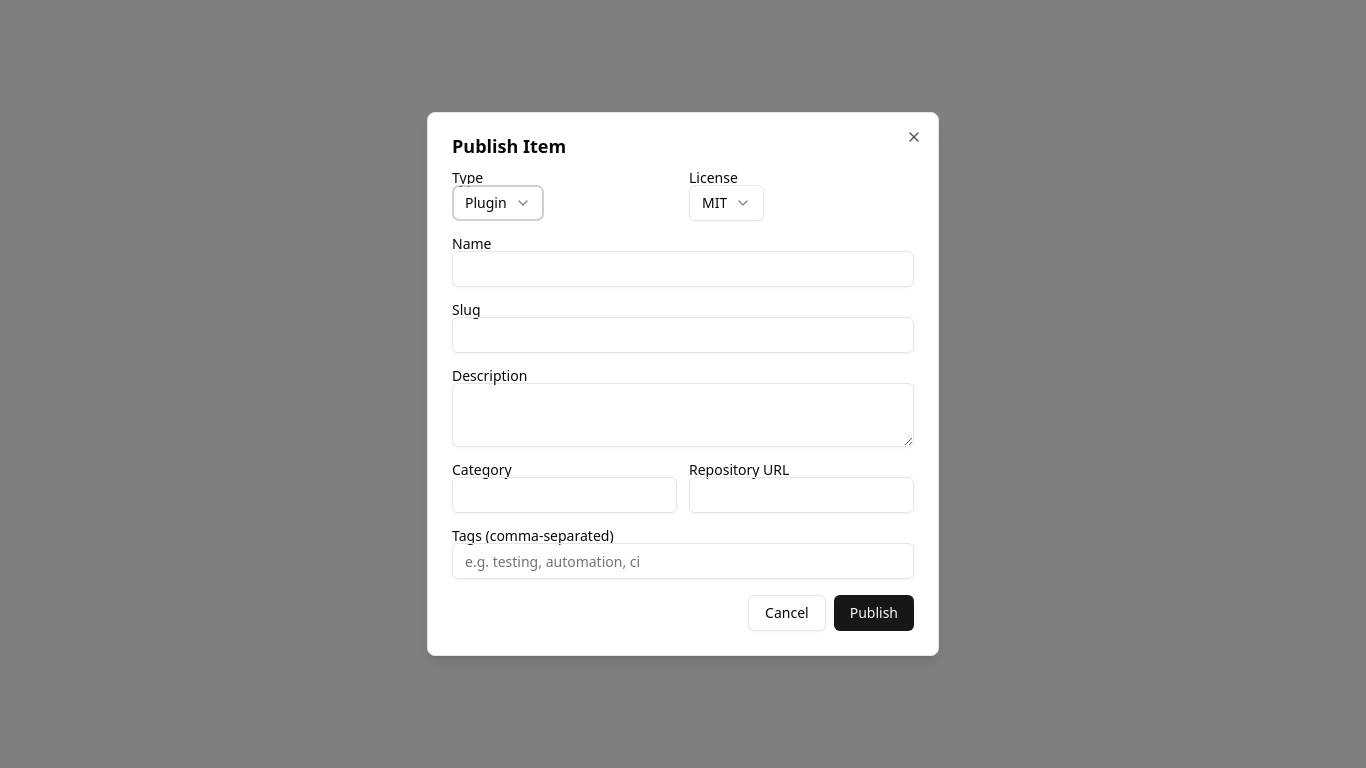
Test case: MarketplacePublishDialog › auto-generates slug from name
This screenshot has width=1366, height=768.
Type "My Plugin" into the field labelled "Name" at (683, 269), box [452,251,914,287]
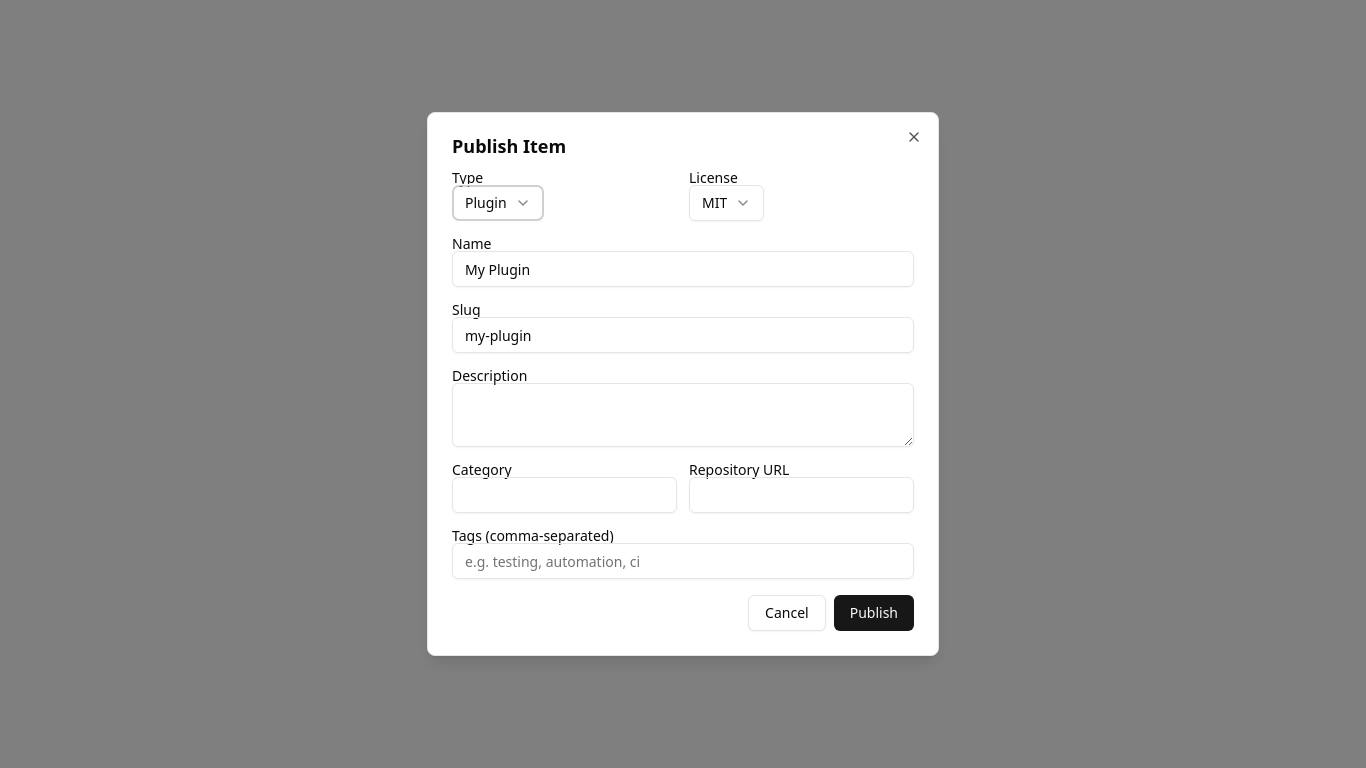
Check: the field labelled "Slug" holds "my-plugin", box [452,317,914,353]
